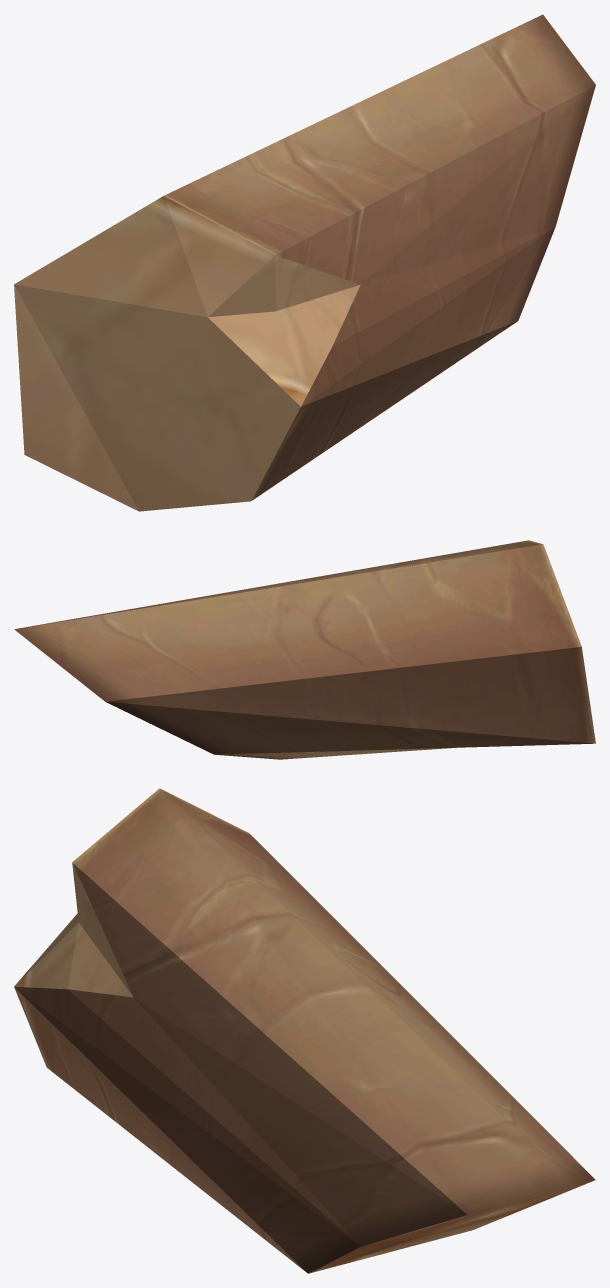
The model's file is YiJi_zhuzi_04.fbx.
3 renders of one model, top to bottom at view 1: azimuth 30°, elevation 25°; view 2: azimuth 150°, elevation 25°; view 3: azimuth 270°, elevation 25°, orthographic. The views are drawn at different scales.
Visible parts, largest first — view 1: YiJi_zhuzi_04; view 2: YiJi_zhuzi_04; view 3: YiJi_zhuzi_04.
Boxes of the visible parts, left/top/right/bottom form: YiJi_zhuzi_04: left=14, top=14, right=595, bottom=511; YiJi_zhuzi_04: left=14, top=540, right=595, bottom=759; YiJi_zhuzi_04: left=14, top=788, right=595, bottom=1273.
Bounding box in the file's own units: 1.91 × 0.837 × 1.4.
